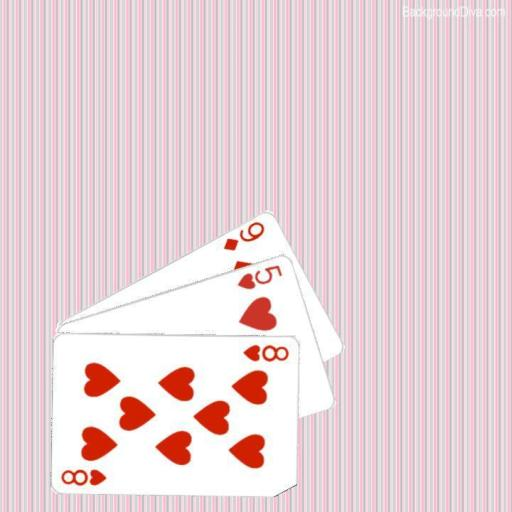card-corner: (220, 218, 266, 252), (234, 261, 284, 291), (240, 340, 290, 362), (58, 465, 108, 487)
